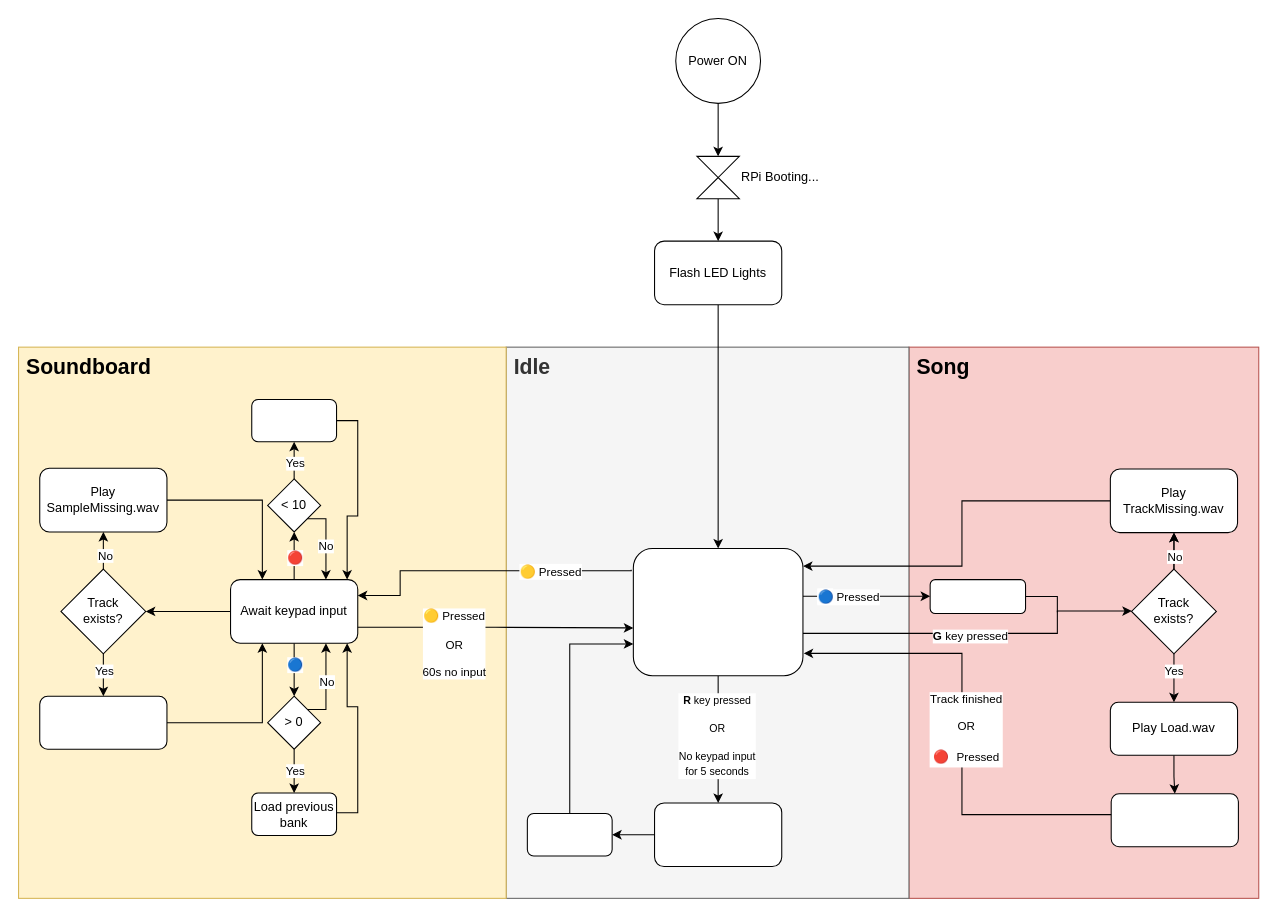
Image size: 1277x917. Some labels were removed from this diagram. Here are the shapes that lost their labels. From the top down, the centre of each, then its label:
(x=294, y=420): Load next bank
(x=717, y=611): Await keypad input, occasionally blink lights
(x=977, y=596): Select random song
(x=103, y=722): Play Sample
(x=569, y=834): Flash lights
(x=717, y=834): Clear current input
(x=1174, y=820): Play song and blink lights
